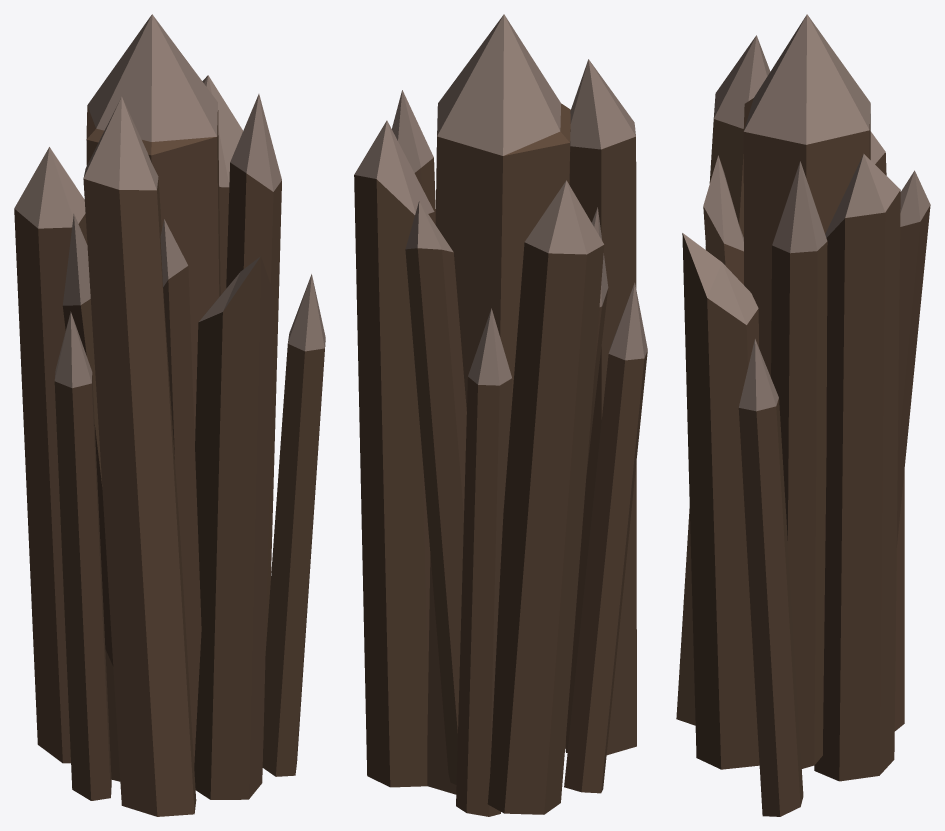
Rendered from wall.2bc55ed2.gltf.
3 renders of one model, left to right at view 1: azimuth 30°, elevation 25°; view 2: azimuth 150°, elevation 25°; view 3: azimuth 270°, elevation 25°, orthographic. The views are drawn at different scales.
Parts seen in each view (by area): view 1: alt1, alt5, alt3, Main, alt9, alt11, alt7, alt2, alt8, alt4; view 2: alt3, alt4, Main, alt6, alt1, alt11, alt10, alt2, alt8; view 3: alt4, alt5, alt2, Main, alt9, alt1, alt6, alt7, alt10.
Boxes of the visible parts, x1,y1,x2,y2 form: alt1: (83,96,196,816); alt5: (194,256,274,799); alt3: (14,147,87,763); Main: (86,14,220,781); alt9: (262,274,325,776); alt11: (54,311,111,800); alt7: (160,219,201,765); alt2: (226,94,281,739); alt8: (62,214,113,666); alt4: (202,75,242,294); alt3: (487,180,604,814); alt4: (354,120,434,787); Main: (427,14,570,794); alt6: (405,201,466,784); alt1: (565,59,636,755); alt11: (564,282,647,793); alt10: (456,308,512,816); alt2: (392,90,435,224); alt8: (586,207,608,474); alt4: (814,154,900,781); alt5: (682,233,759,769); alt2: (771,161,827,768); Main: (743,14,870,376); alt9: (738,339,803,816); alt1: (676,35,770,725); alt6: (896,170,930,547); alt7: (703,155,743,284); alt10: (894,470,904,731).
Bounding box in the file's own units: 1.73 × 4.83 × 1.49.
